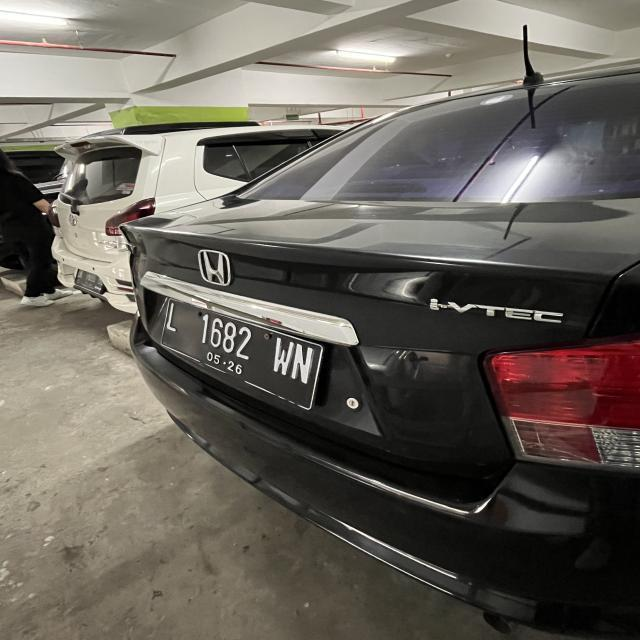1: (200, 312, 210, 346)
2: (236, 324, 252, 360)
6: (210, 314, 223, 348)
8: (224, 317, 236, 354)
L: (168, 300, 178, 332)
N: (294, 343, 312, 383)
W: (272, 337, 290, 374)
